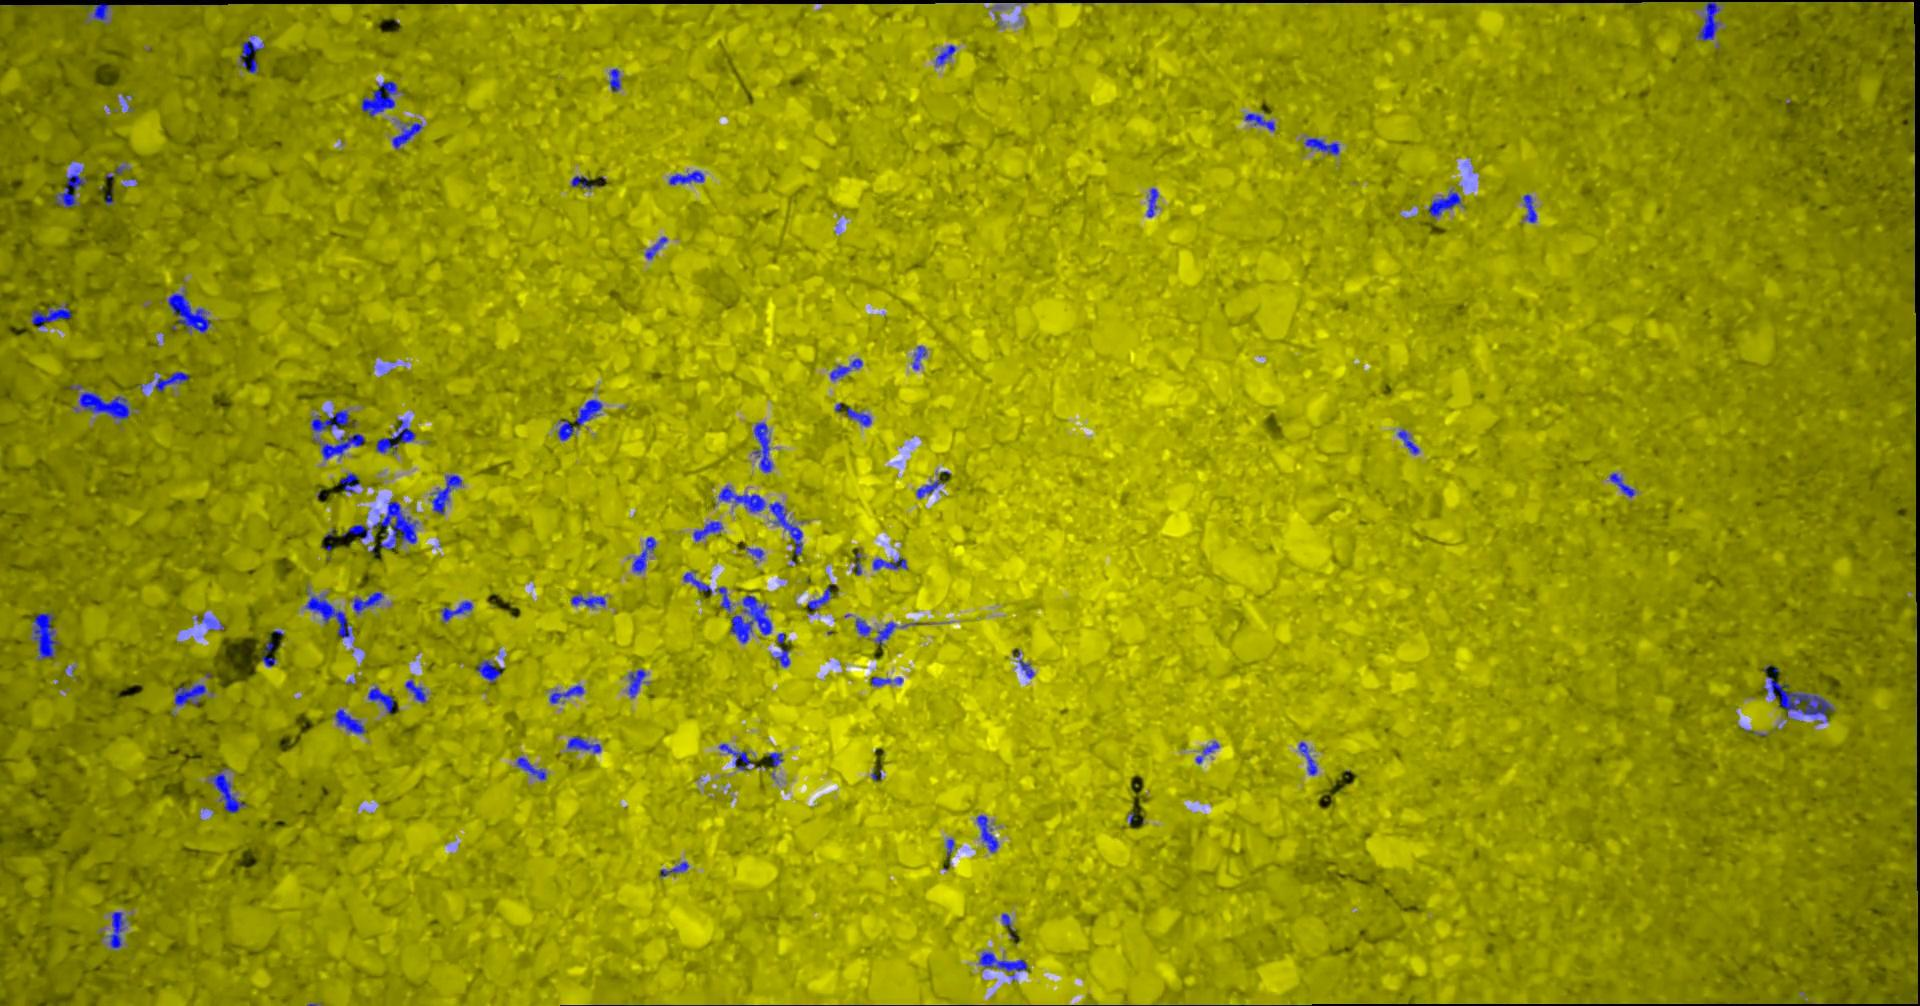ant: (1764, 674, 1834, 720), (69, 384, 130, 419), (729, 594, 771, 643), (305, 594, 352, 636), (557, 399, 602, 439), (770, 500, 803, 555), (168, 293, 210, 332), (210, 768, 245, 812), (375, 419, 415, 453), (978, 951, 1027, 979), (361, 81, 397, 117), (55, 168, 86, 207), (430, 474, 461, 513), (317, 433, 364, 459), (32, 612, 57, 659), (717, 486, 764, 511), (752, 422, 772, 473), (719, 743, 754, 770), (1697, 0, 1719, 39), (30, 305, 71, 326), (239, 34, 262, 72), (391, 122, 422, 149), (632, 536, 655, 572), (367, 686, 397, 713), (1429, 191, 1460, 216), (310, 410, 348, 431), (334, 708, 364, 733), (977, 814, 997, 852), (516, 756, 546, 780), (155, 371, 189, 391), (352, 592, 383, 614), (173, 683, 204, 705), (806, 586, 830, 614), (829, 358, 862, 379), (549, 683, 583, 702), (441, 600, 472, 620), (1298, 741, 1317, 774), (108, 911, 124, 948), (683, 572, 711, 593), (1609, 473, 1634, 495), (476, 661, 503, 682), (693, 520, 721, 540), (1012, 649, 1032, 677), (1304, 137, 1338, 154), (566, 735, 599, 752), (1195, 741, 1218, 763), (1397, 429, 1418, 453), (874, 621, 895, 645), (80, 3, 109, 20), (668, 170, 703, 184), (627, 669, 645, 697), (916, 478, 940, 498), (846, 406, 871, 426), (1244, 113, 1274, 130), (644, 236, 665, 258), (405, 680, 425, 702), (775, 633, 789, 666), (872, 556, 907, 569), (570, 594, 604, 607), (196, 615, 223, 630), (660, 861, 688, 876), (935, 44, 955, 65), (262, 636, 276, 666), (1523, 194, 1537, 222), (1145, 187, 1158, 216), (339, 473, 358, 492), (912, 345, 926, 370), (717, 586, 731, 610), (870, 676, 902, 686), (1001, 913, 1013, 937), (571, 175, 594, 188), (855, 617, 870, 635), (610, 69, 620, 91), (768, 752, 782, 767), (745, 547, 763, 558), (946, 838, 954, 856)
